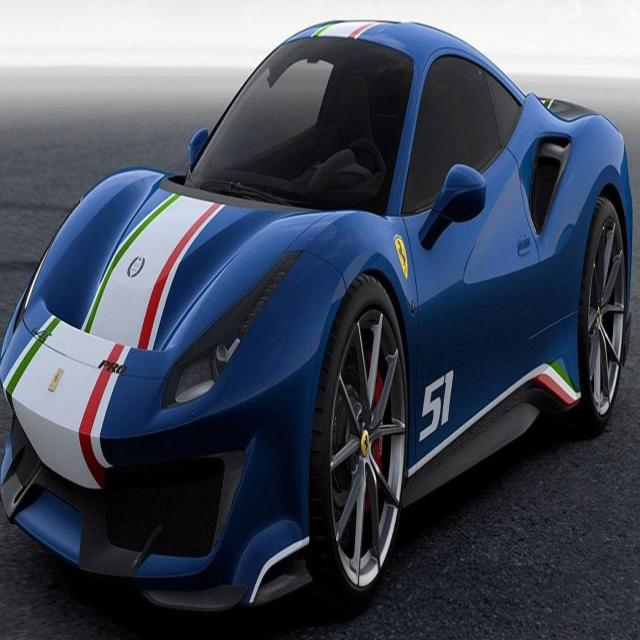blue: (4, 10, 639, 640)
